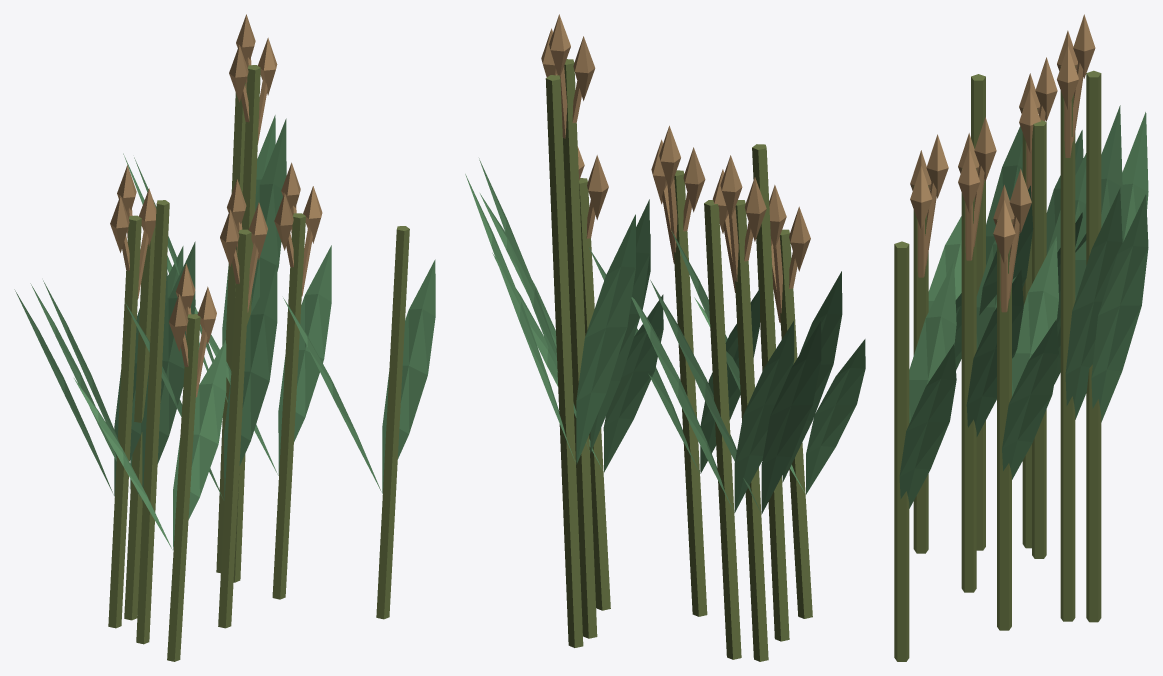
Rendered from reeds_b.glb.
The picture shows the model from 3 angles, left to right: view 1: azimuth 30°, elevation 25°; view 2: azimuth 150°, elevation 25°; view 3: azimuth 270°, elevation 25°; orthographic projection. The views are drawn at different scales.
Visible parts, largest first — view 1: geometry; view 2: geometry; view 3: geometry.
Boxes of the visible parts, left/top/right/bottom form: geometry: left=14, top=14, right=435, bottom=661; geometry: left=465, top=14, right=865, bottom=661; geometry: left=894, top=14, right=1148, bottom=661.
Size of the model in its own units: 0.7119 by 1.04 by 0.3889.
